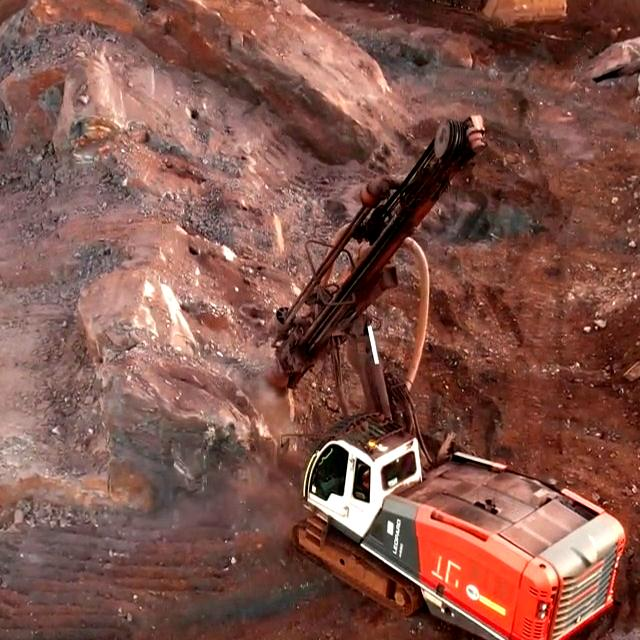Blast rig: (333, 455, 595, 620)
